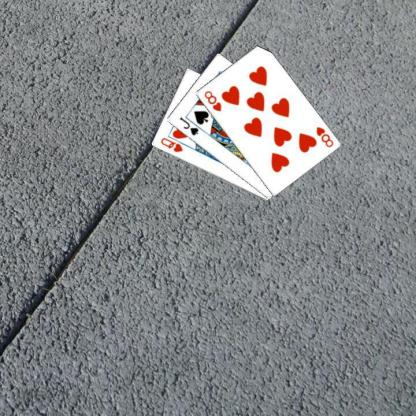8H: (313, 124, 335, 149), (201, 88, 223, 112)
JS: (177, 114, 199, 137)
QH: (158, 135, 184, 153)
